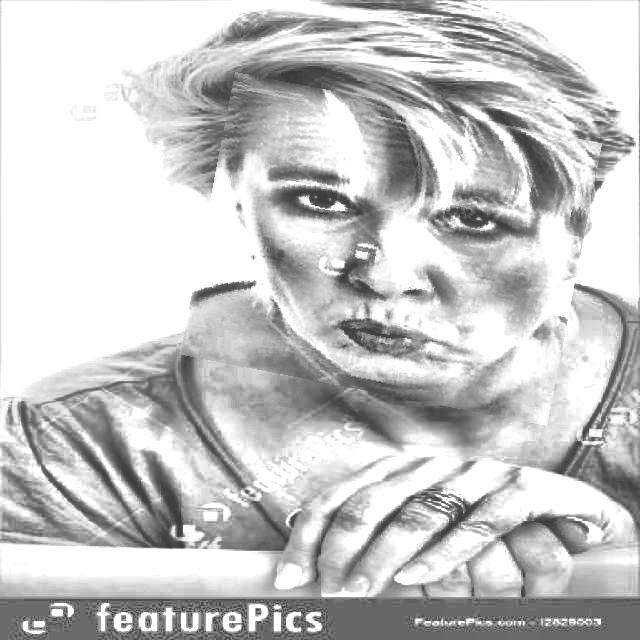sad: (192, 89, 590, 409)
